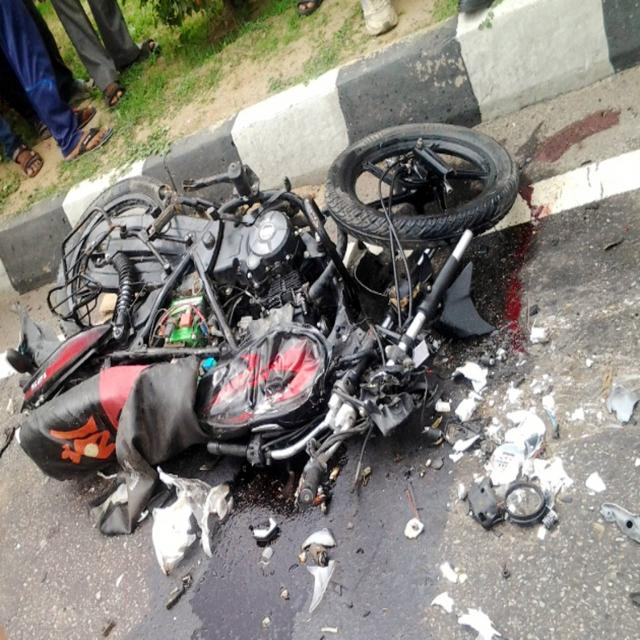accident: (14, 123, 518, 533)
